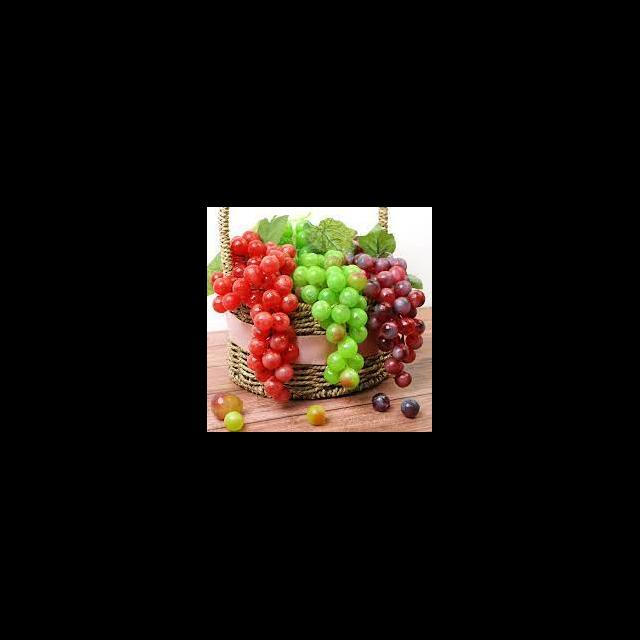grape: (210, 230, 300, 404)
